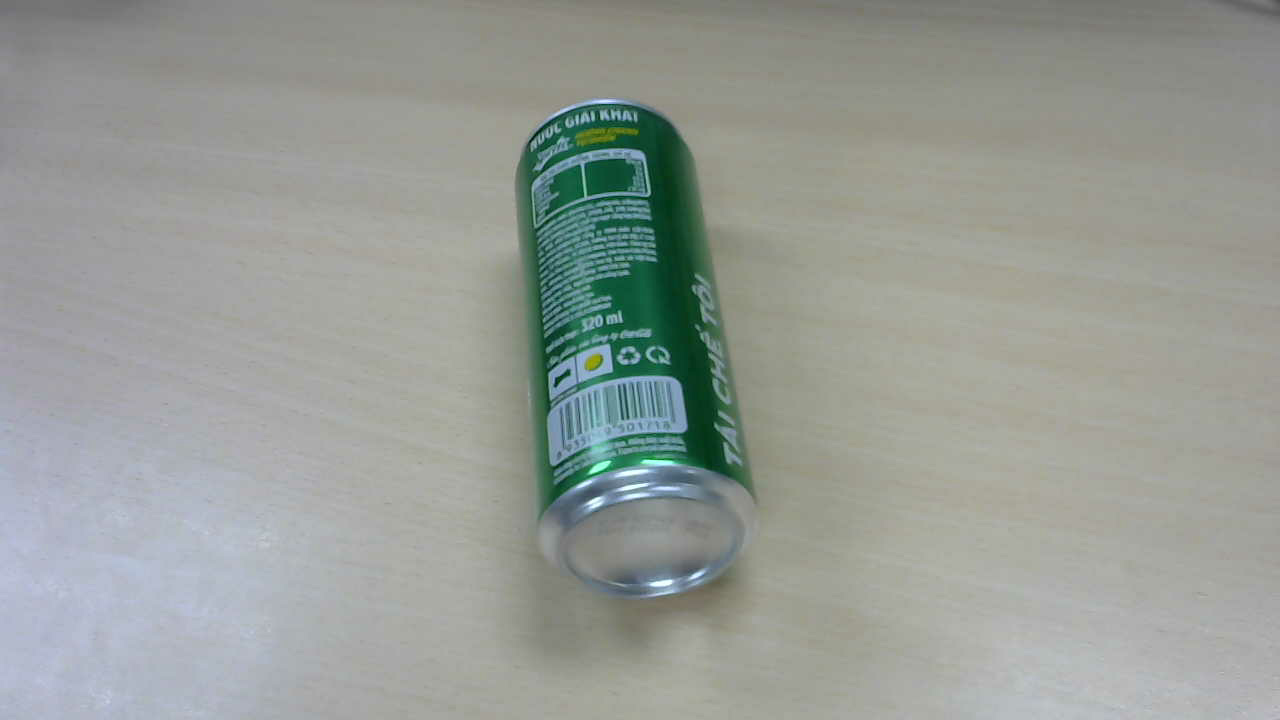Sprite: (518, 106, 766, 602)
